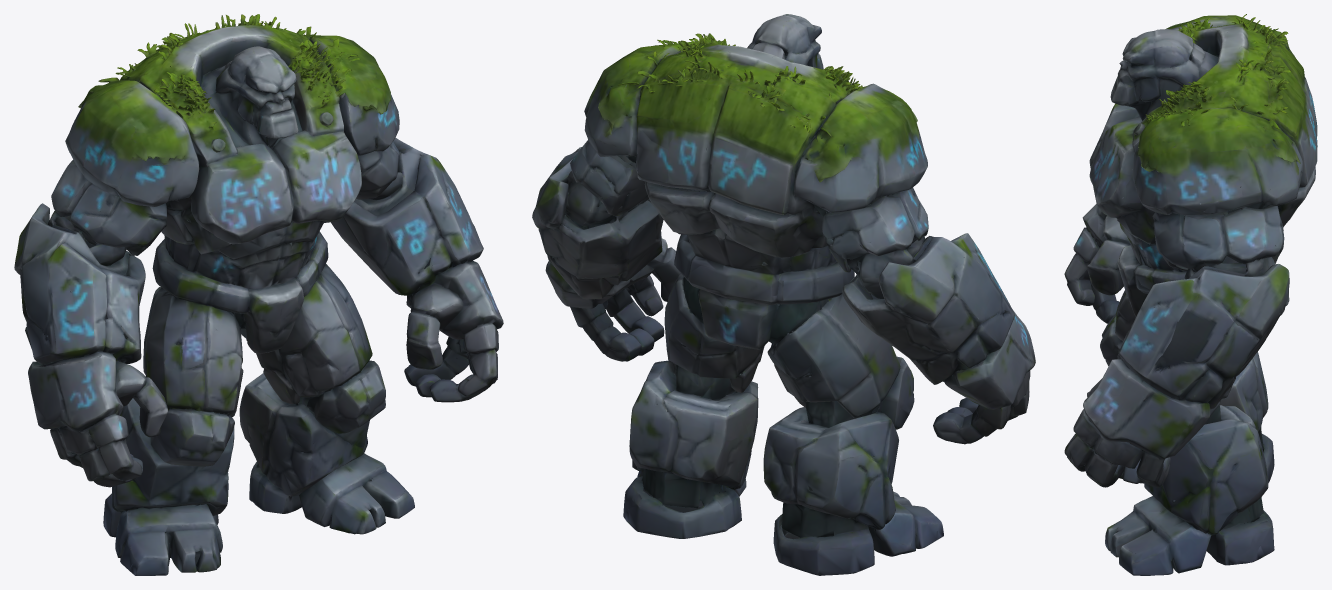
Rendered from detail_7.glb.
The picture shows the model from 3 angles, left to right: view 1: azimuth 30°, elevation 25°; view 2: azimuth 150°, elevation 25°; view 3: azimuth 270°, elevation 25°; orthographic projection. The views are drawn at different scales.
Size of the model in its own units: 0.9605 by 0.9944 by 0.4777.
Materials: 1 (1 with a texture image).
